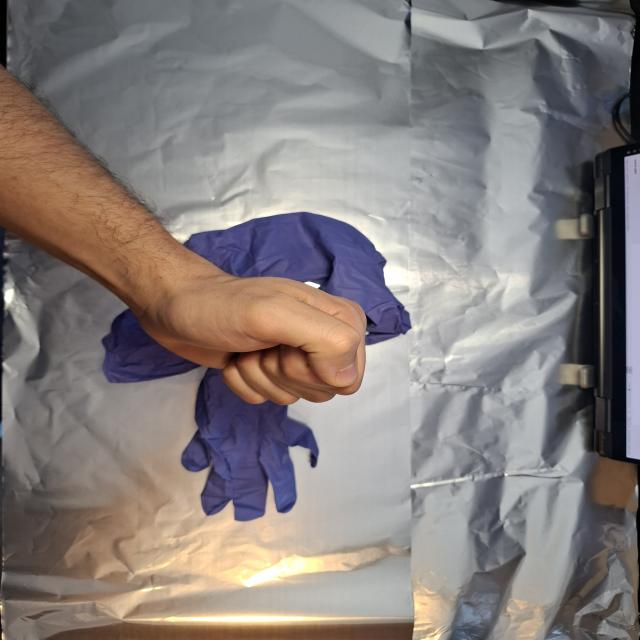glove_off: (133, 259, 370, 407)
